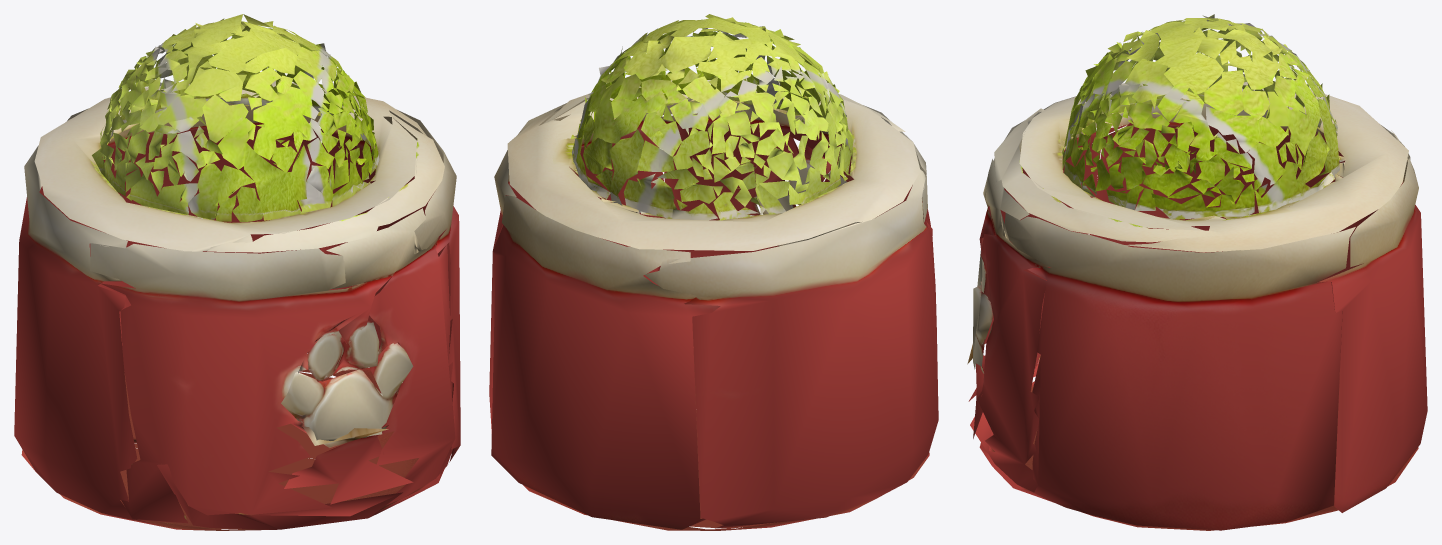
Rendered from P_TennisBall_h16.fbx.
3 renders of one model, left to right at view 1: azimuth 30°, elevation 25°; view 2: azimuth 150°, elevation 25°; view 3: azimuth 270°, elevation 25°, orthographic.
Parts seen in each view (by area): view 1: P_TennisBall; view 2: P_TennisBall; view 3: P_TennisBall.
Part boxes in pixels (<box>): P_TennisBall: <box>14,14,460,530</box>; P_TennisBall: <box>489,14,938,530</box>; P_TennisBall: <box>967,14,1427,530</box>.
Bounding box in the file's own units: 0.9682 × 0.9922 × 0.9927.
1 material, 1 textured.
